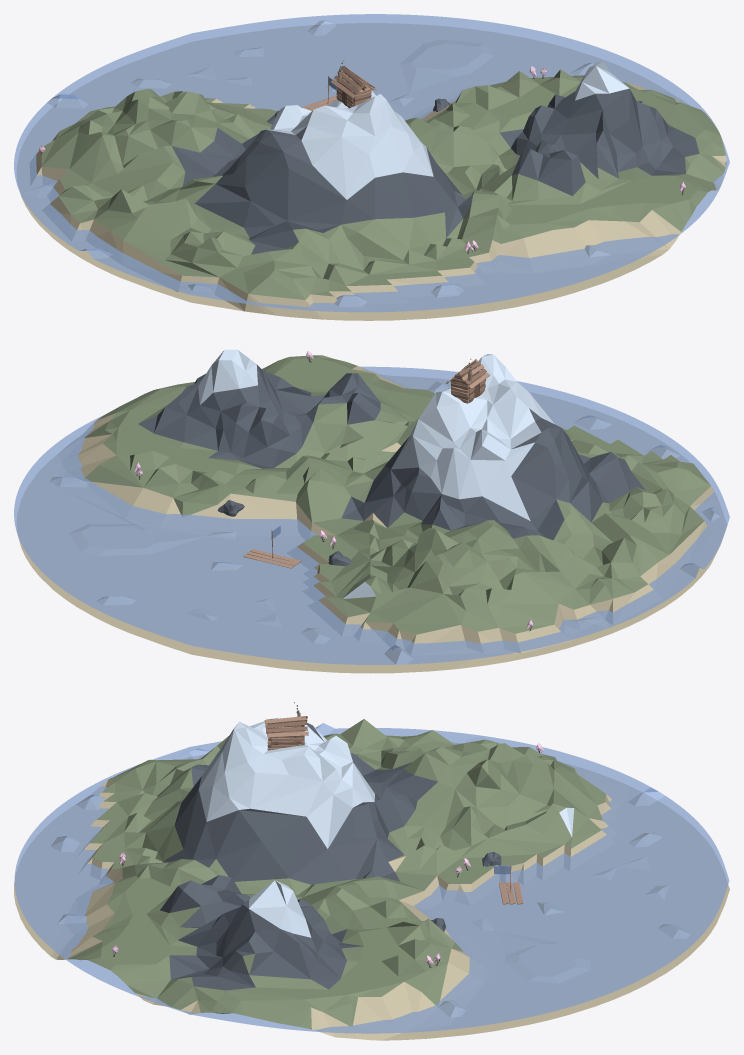
Rendered from mountain.glb.
3 renders of one model, top to bottom at view 1: azimuth 30°, elevation 25°; view 2: azimuth 150°, elevation 25°; view 3: azimuth 270°, elevation 25°, orthographic.
Parts seen in each view (by area): view 1: group16_pCube26; view 2: group16_pCube26; view 3: group16_pCube26.
Boxes of the visible parts, x1,y1,x2,y2 form: group16_pCube26: (14,14,729,320); group16_pCube26: (14,349,729,673); group16_pCube26: (14,702,729,1040).
Bounding box in the file's own units: 0.2051 × 0.0487 × 0.2031.
